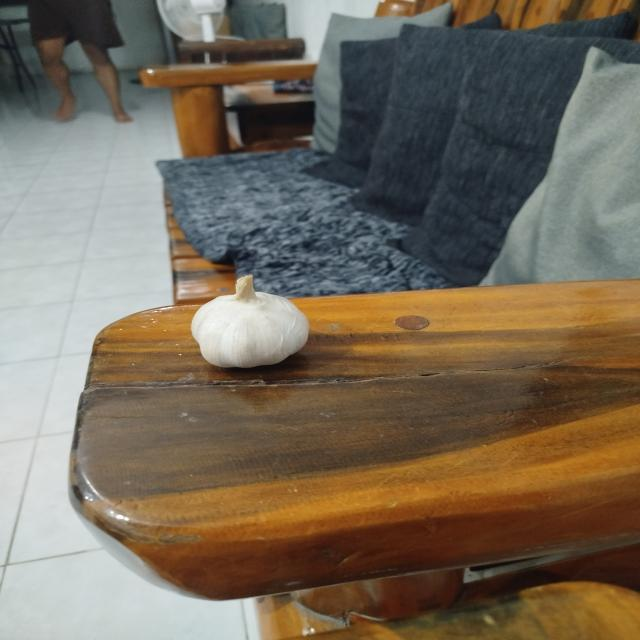garlic: (190, 274, 310, 368)
